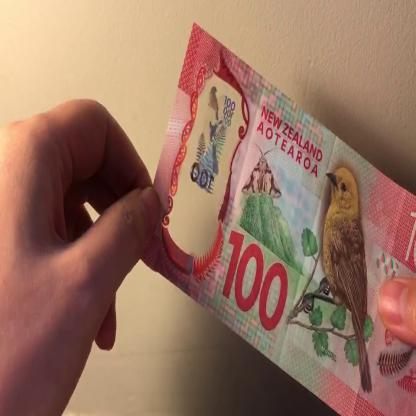100B: (189, 78, 237, 211)
